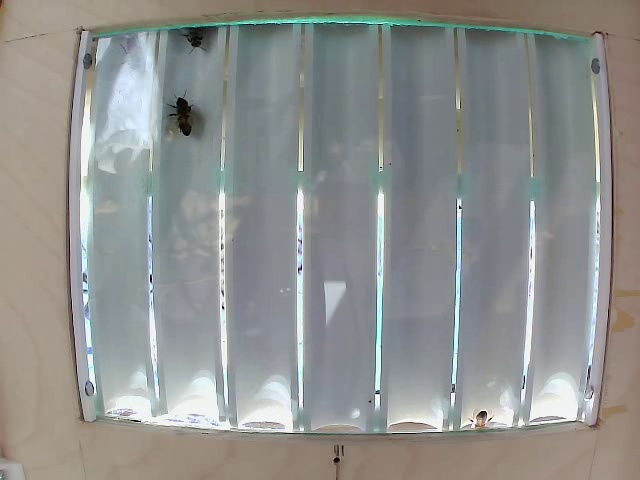bee: (163, 96, 196, 139)
